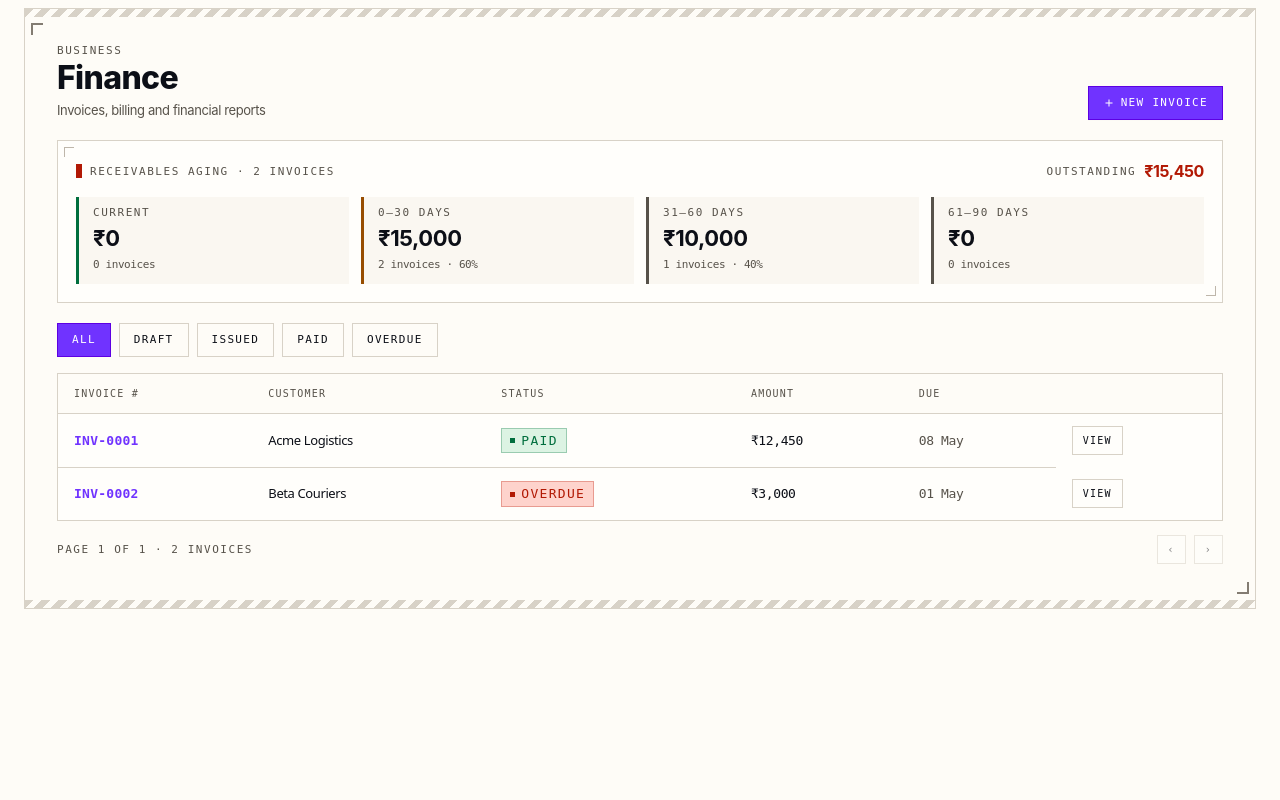
Test: OpsFinanceView › filters rows by the active status tab
Click the tab "Paid": [313, 340] box [282,323,344,357]
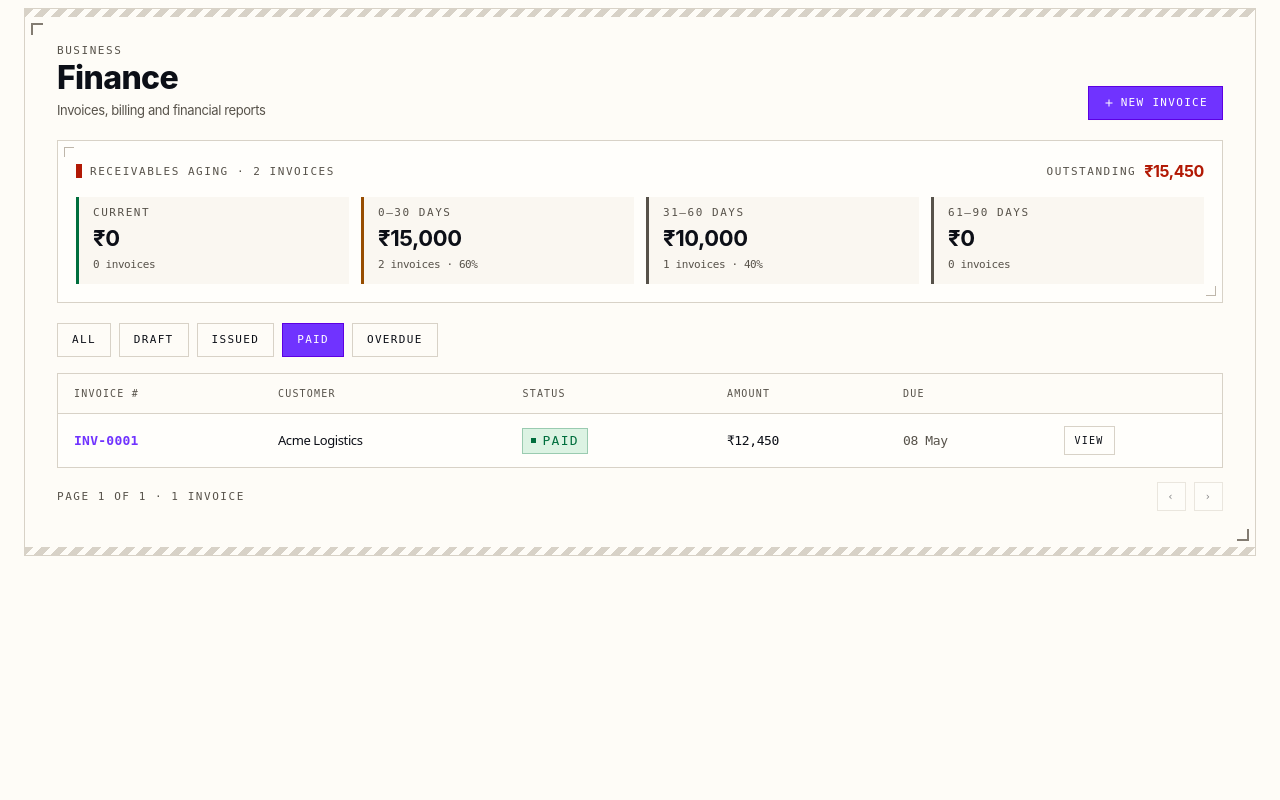
Expected: the text "INV-0001" is shown, [74,433,139,448]
Result: the text "INV-0002" is gone
